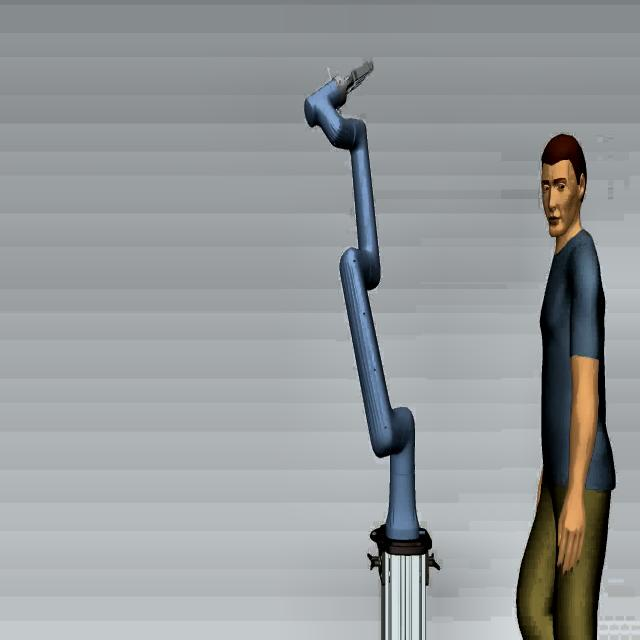robot: (313, 58, 441, 542)
